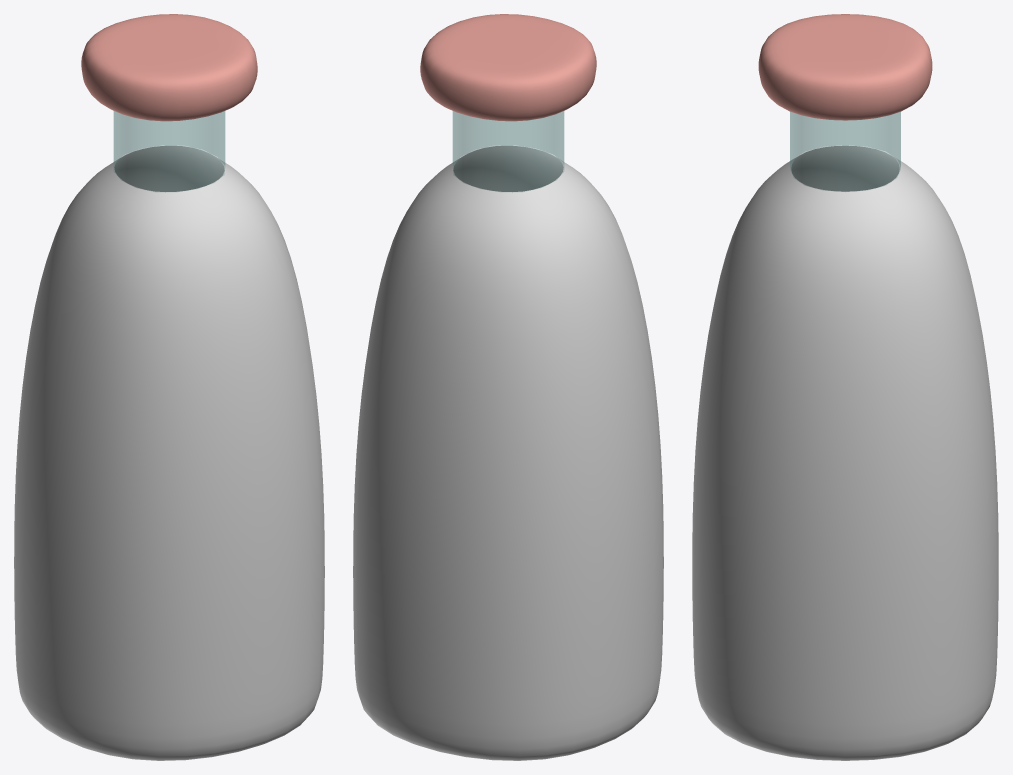
File: milk.fbx
The picture shows the model from 3 angles, left to right: view 1: azimuth 30°, elevation 25°; view 2: azimuth 150°, elevation 25°; view 3: azimuth 270°, elevation 25°; orthographic projection.
Parts seen in each view (by area): view 1: Bottle, Lid, BottleNeck; view 2: Bottle, Lid, BottleNeck; view 3: Bottle, Lid, BottleNeck.
Part boxes in pixels (x1=…): Bottle: x1=14, y1=145, x2=324, y2=760; Lid: x1=81, y1=14, x2=257, y2=121; BottleNeck: x1=113, y1=111, x2=225, y2=191; Bottle: x1=353, y1=145, x2=663, y2=760; Lid: x1=420, y1=14, x2=596, y2=121; BottleNeck: x1=452, y1=111, x2=564, y2=191; Bottle: x1=692, y1=145, x2=998, y2=760; Lid: x1=758, y1=14, x2=932, y2=120; BottleNeck: x1=790, y1=112, x2=900, y2=191.
Size of the model in its own units: 213 by 507 by 213.
